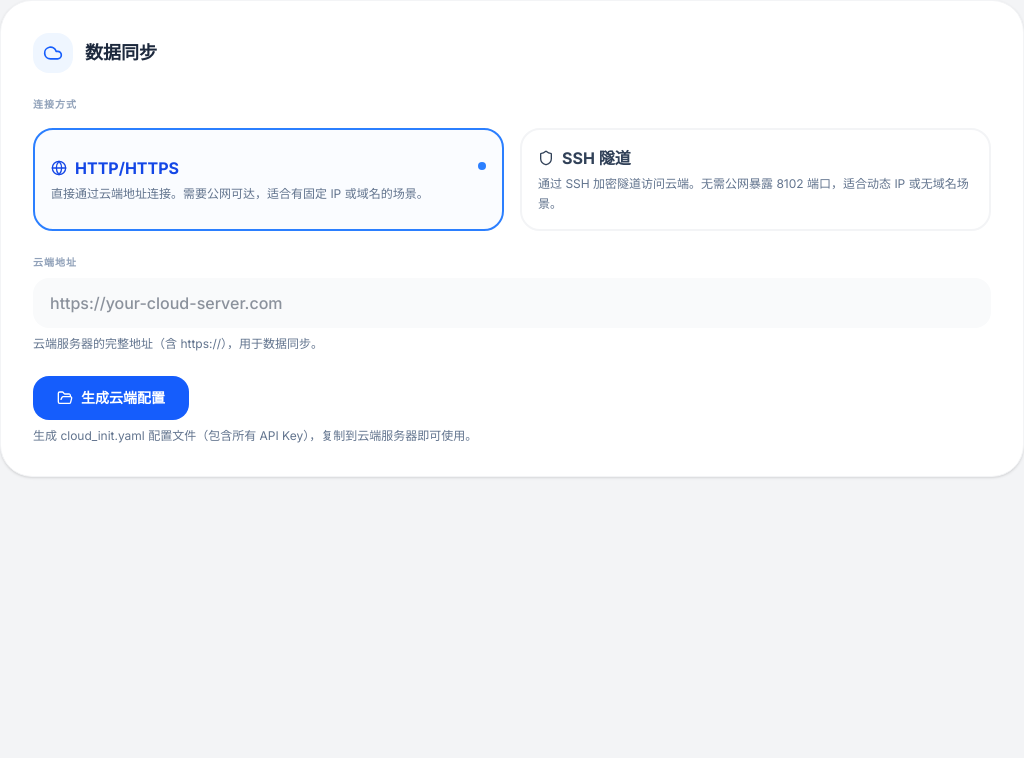
Scenario: SyncConfigSection › Seam 10: 测试连接结果展示 › should clear previous test result when starting a new test
This screenshot has width=1024, height=758.
Click the button "SSH 隧道 通过 SSH 加密隧道访问云端。无需公网暴露 8102 端口，适合动态 IP 或无域名场景。" at (756, 180), box [520,128,991,231]
(page scrolled)
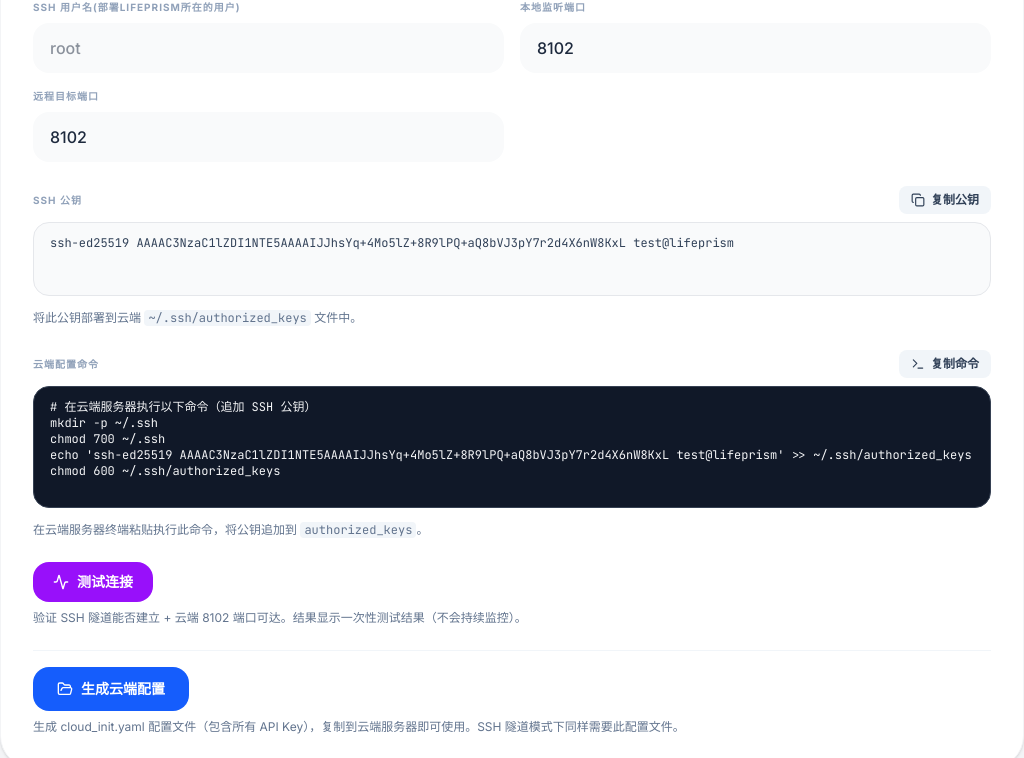
expect the button "测试连接" is shown: met
# 第一次测试 - 成功
Click the button "测试连接" at (93, 582), box [33,562,153,602]
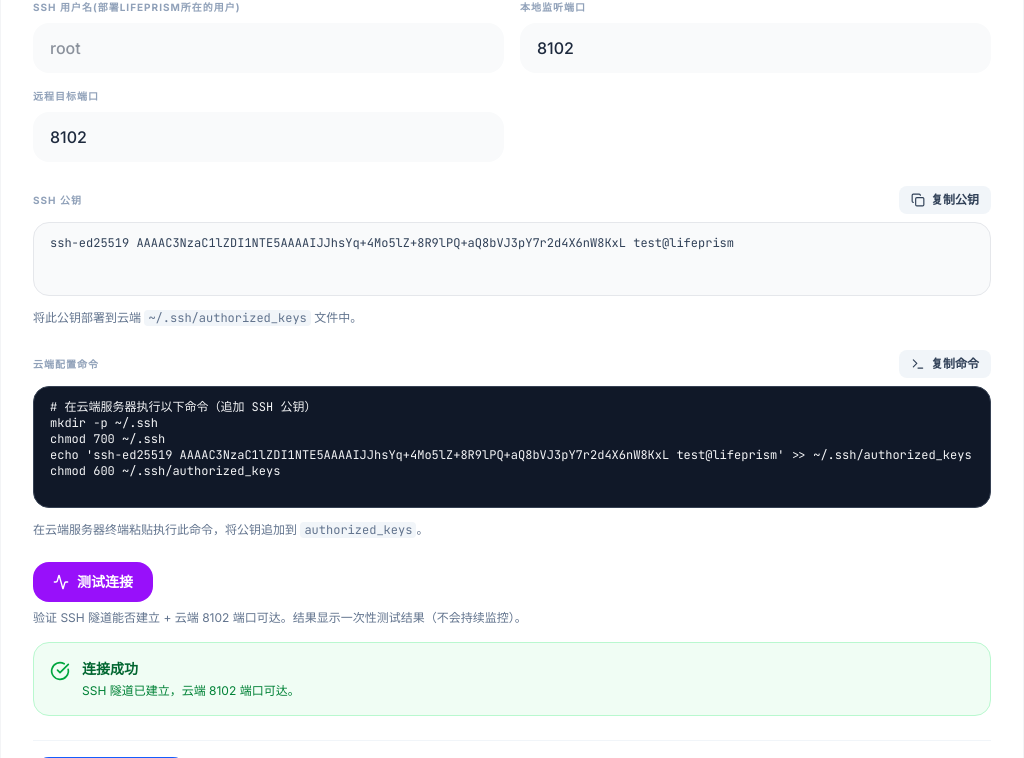
expect the text "连接成功" is shown: met, box [82,660,138,677]
# 第二次测试 - 失败（应替换之前成功结果）
Click the button "测试连接" at (93, 582), box [33,562,153,602]
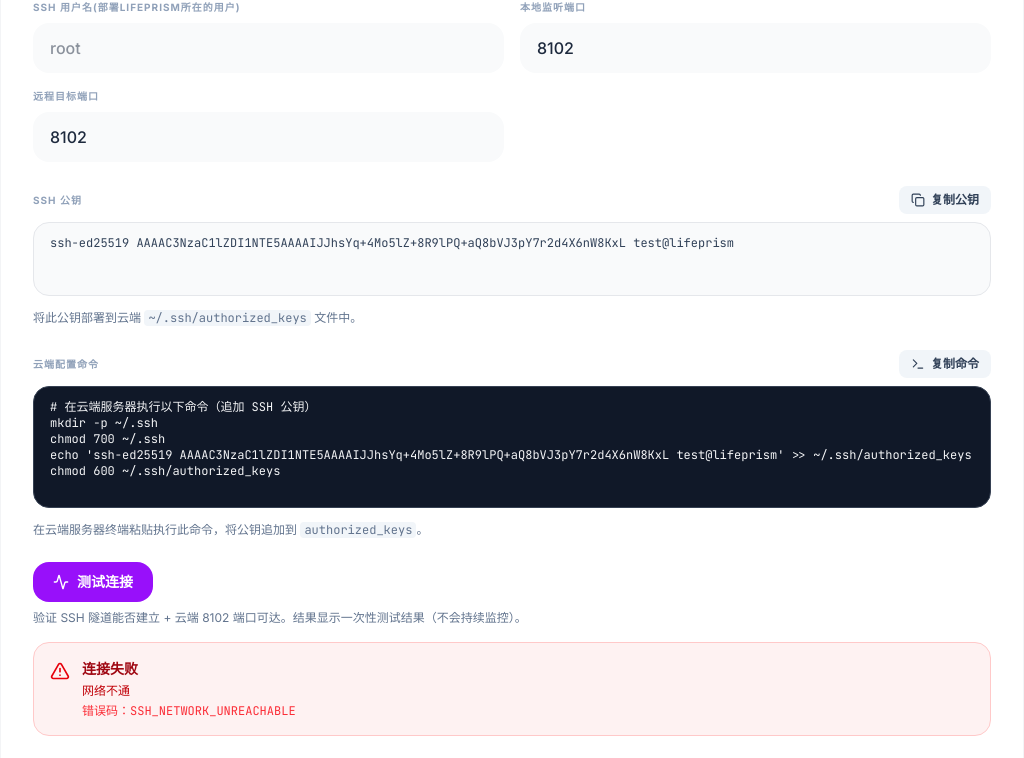
expect the text "网络不通" is shown: met, box [82,683,130,698]
